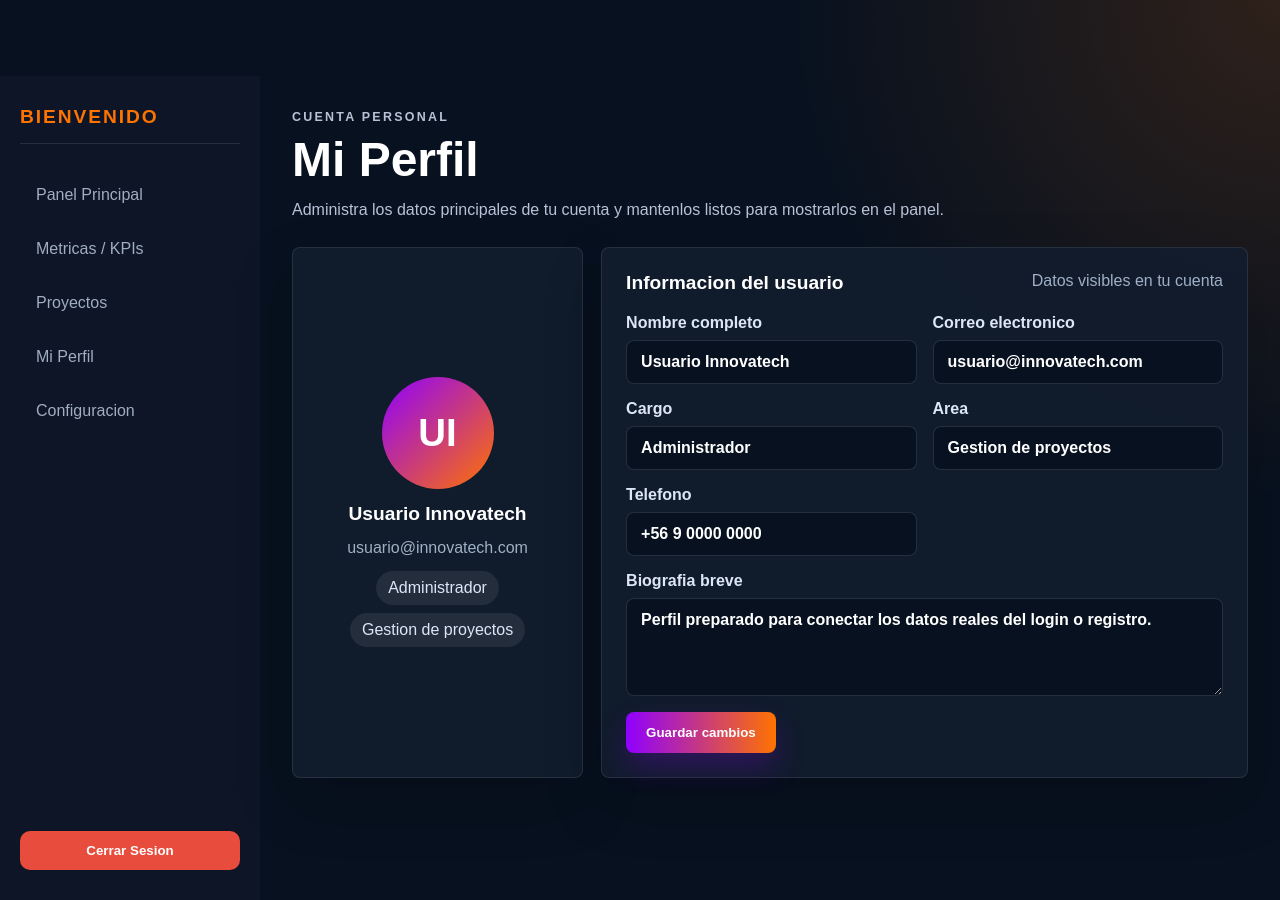
Test: Componente Perfil › 4. Permite modificar los campos mediante handleChange y persistirlos al hacer submit
This screenshot has width=1280, height=900.
Note: Simulamos la interacción y edición del usuario
Replace the text in the field labelled "Nombre completo" with "Ana Maria Martinez" at (771, 362), box [626, 340, 917, 384]
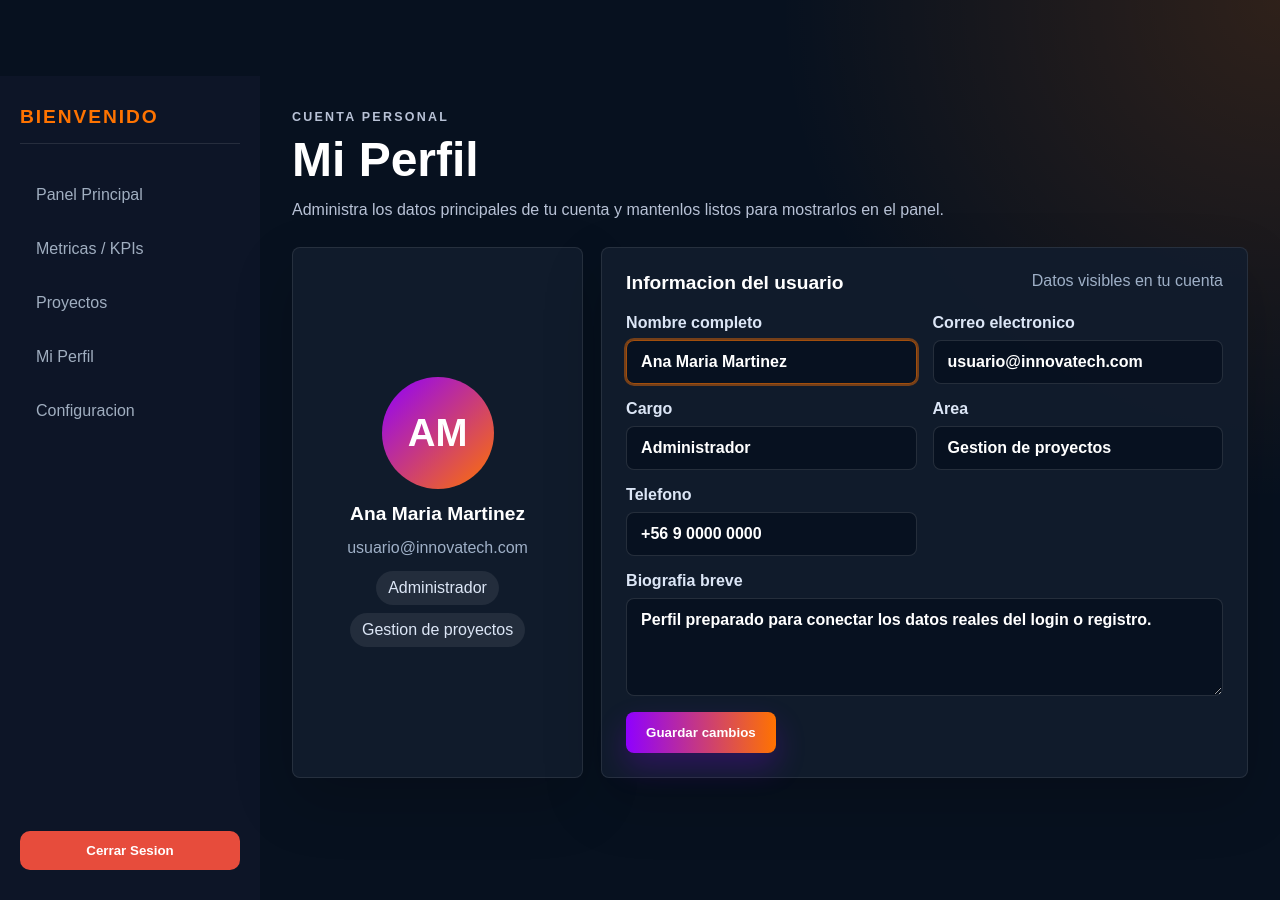
Replace the text in the field labelled "Cargo" with "Product Owner" at (771, 448), box [626, 426, 917, 470]
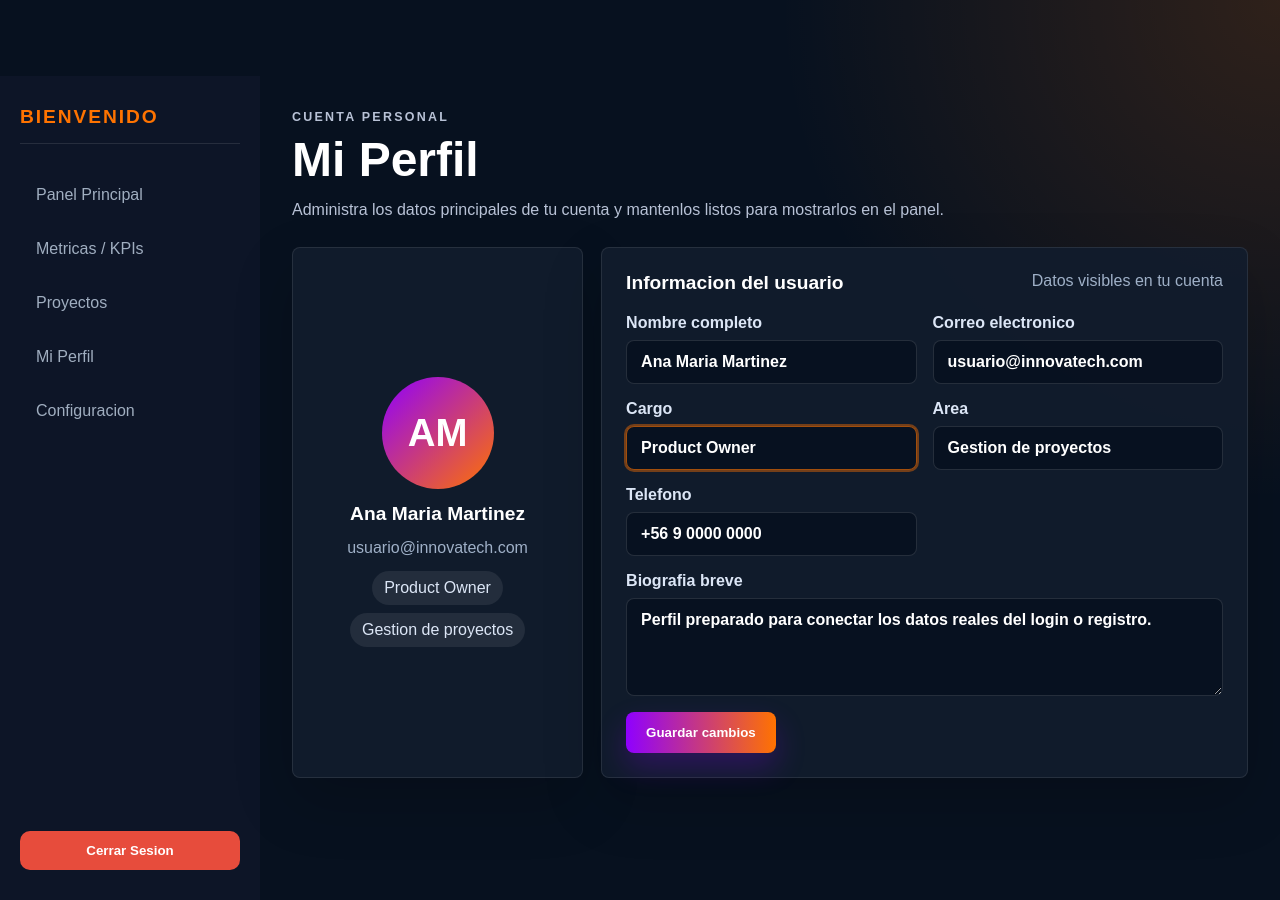
Replace the text in the text box labelled "Biografia breve" with "Nueva descripción de bio." at (925, 647), box [626, 598, 1223, 696]
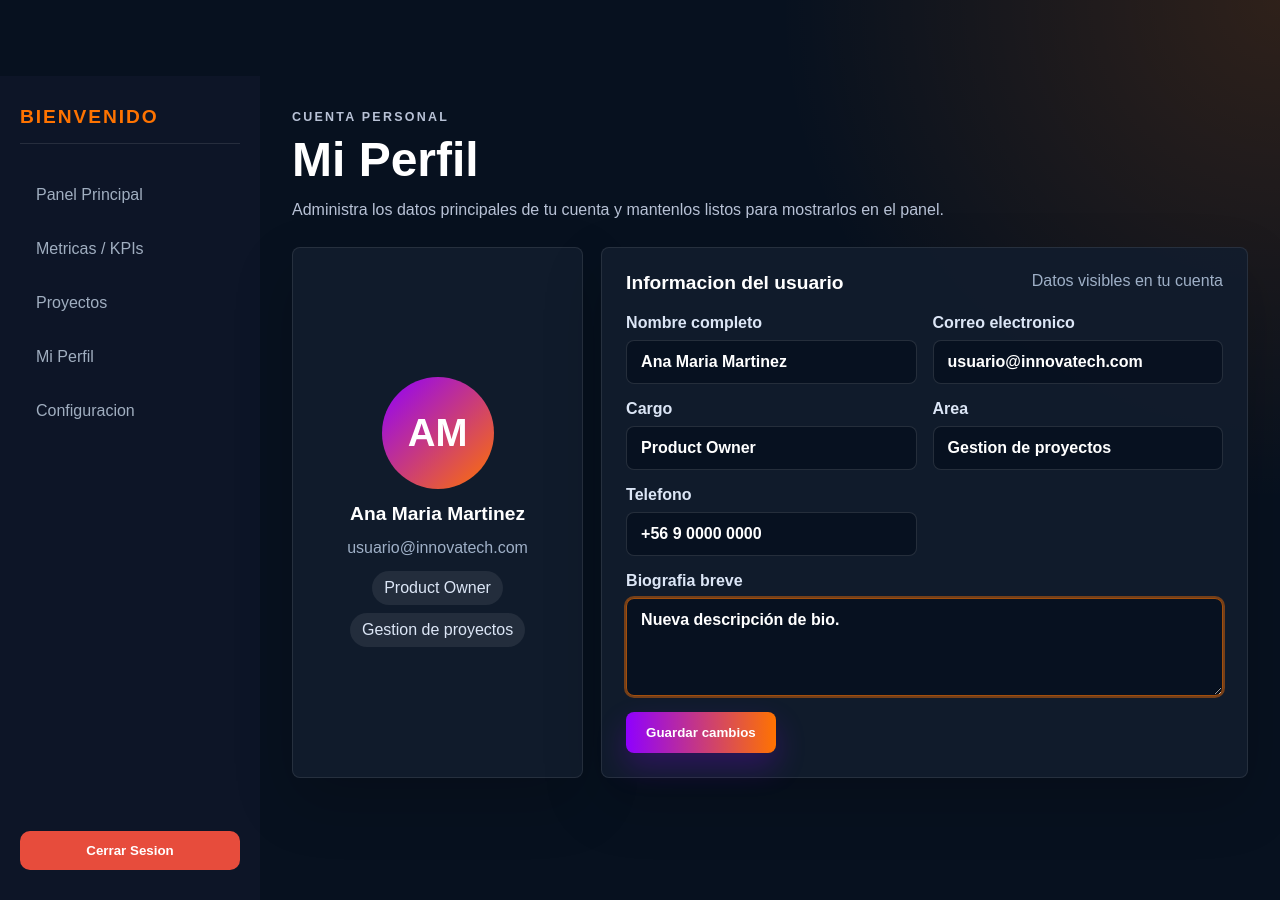
Note: Enviamos el formulario
Click the button "Guardar cambios" at (701, 732), box [626, 712, 776, 753]
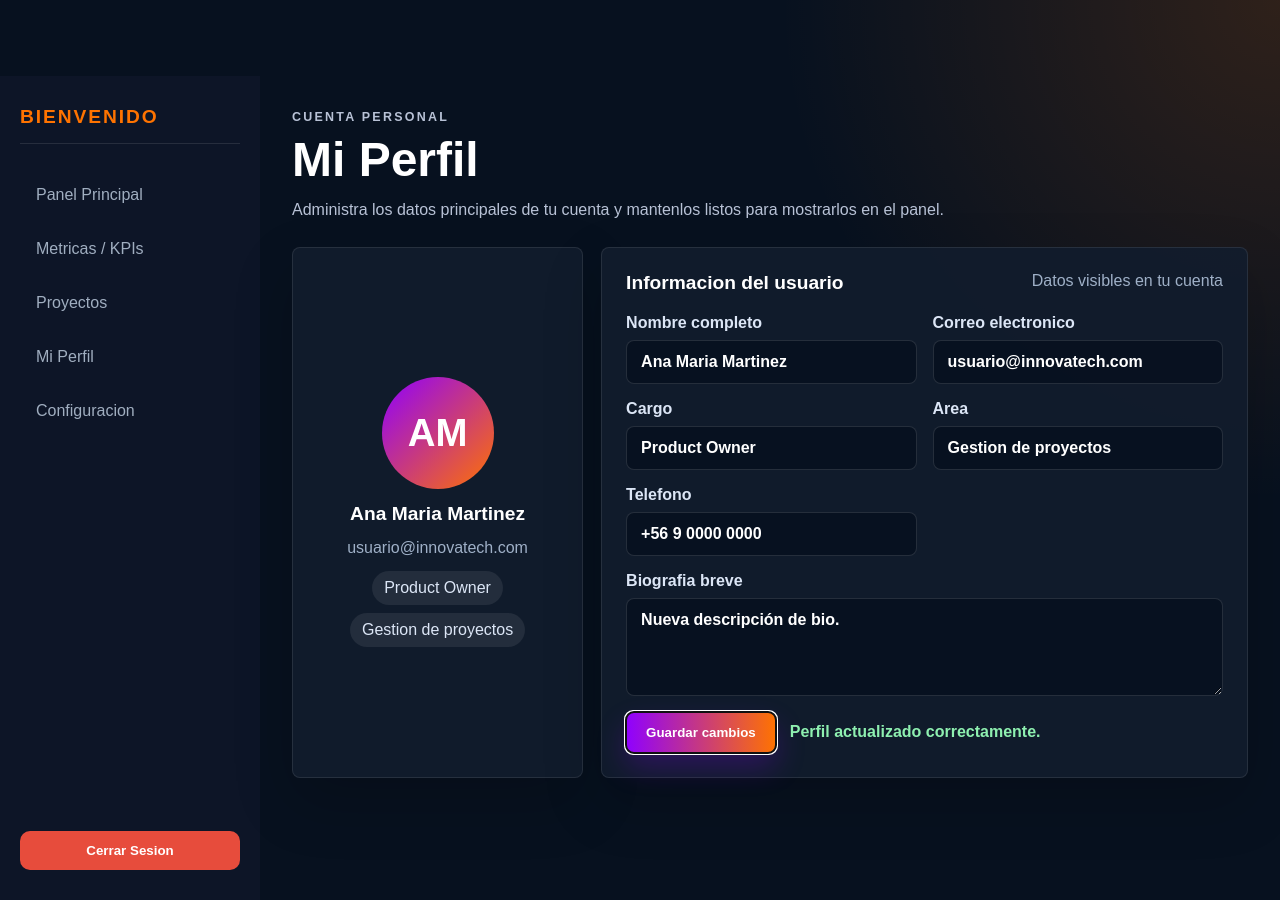
Now the heading "Ana Maria Martinez" is shown, box [350, 503, 525, 525]
Now the text "Product Owner" is shown, box [372, 571, 503, 605]
Now the text "Perfil actualizado correctamente." is shown, box [790, 723, 1040, 741]
